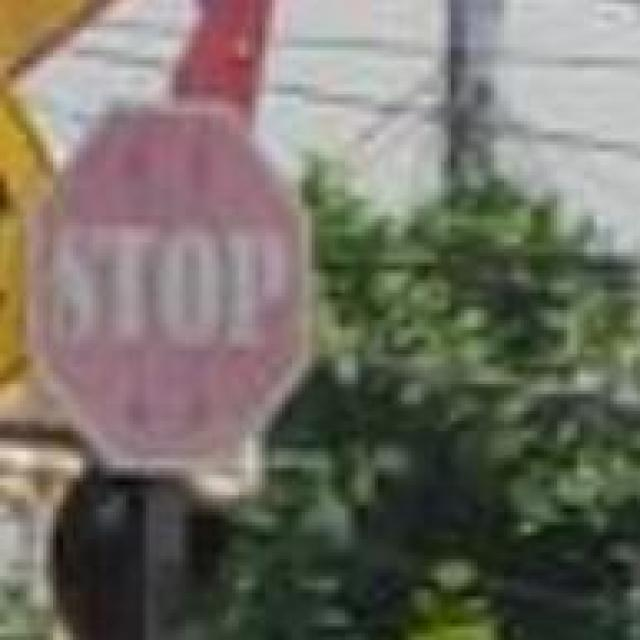traffic sign: (40, 114, 308, 464)
